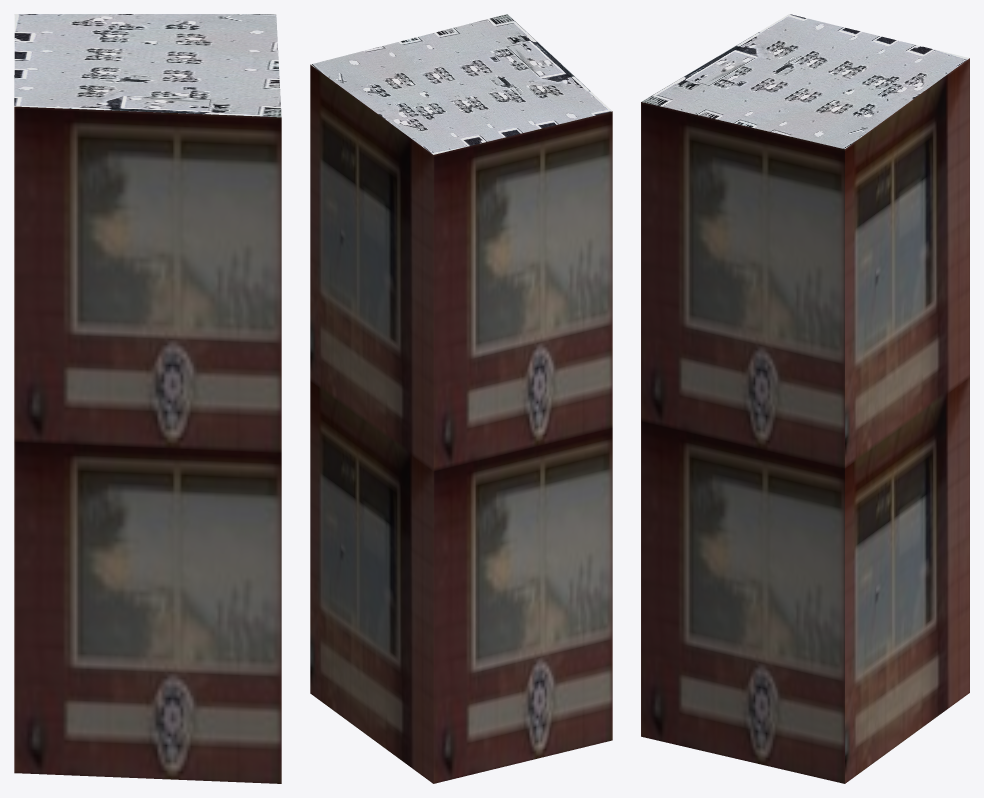
Rendered from ResTex__741.fbx.
3 renders of one model, left to right at view 1: azimuth 30°, elevation 25°; view 2: azimuth 150°, elevation 25°; view 3: azimuth 270°, elevation 25°, orthographic. The views are drawn at different scales.
Visible parts, largest first — view 1: CityEngineMaterial_13_m, CityEngineMaterial_m; view 2: CityEngineMaterial_13_m, CityEngineMaterial_m; view 3: CityEngineMaterial_13_m, CityEngineMaterial_m.
Part boxes in pixels (box(x1,y1,x2,y2)): CityEngineMaterial_13_m: box(14, 106, 281, 783); CityEngineMaterial_m: box(14, 14, 281, 117); CityEngineMaterial_13_m: box(310, 64, 612, 783); CityEngineMaterial_m: box(310, 14, 611, 154); CityEngineMaterial_13_m: box(641, 58, 969, 783); CityEngineMaterial_m: box(641, 14, 969, 148).
Size of the model in its own units: 2.74 by 6 by 2.82.
Materials: 2 (2 with a texture image).
